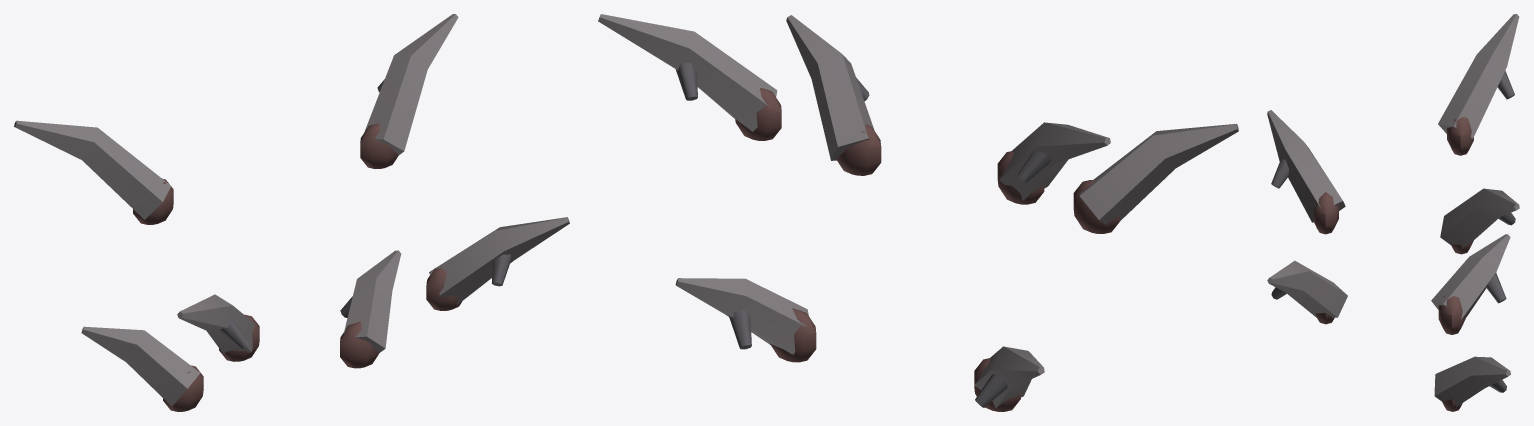
Rendered from implants_hulk_barbs.obj.
3 renders of one model, left to right at view 1: azimuth 30°, elevation 25°; view 2: azimuth 150°, elevation 25°; view 3: azimuth 270°, elevation 25°, orthographic. The views are drawn at different scales.
Parts seen in each view (by area): view 1: implants_hulk_barbs; view 2: implants_hulk_barbs; view 3: implants_hulk_barbs.
Boxes of the visible parts, left/top/right/bottom form: implants_hulk_barbs: left=14, top=14, right=569, bottom=411; implants_hulk_barbs: left=598, top=14, right=1238, bottom=411; implants_hulk_barbs: left=1267, top=14, right=1519, bottom=411.
Bounding box in the file's own units: 0.8327 × 0.5314 × 0.4623.
